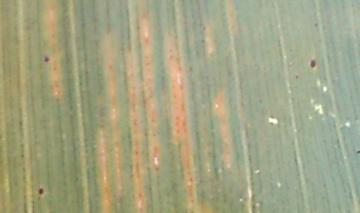tarspot: (308, 58, 317, 70), (37, 186, 45, 195), (41, 55, 51, 62), (293, 73, 299, 81), (312, 21, 318, 27), (355, 149, 360, 155)
